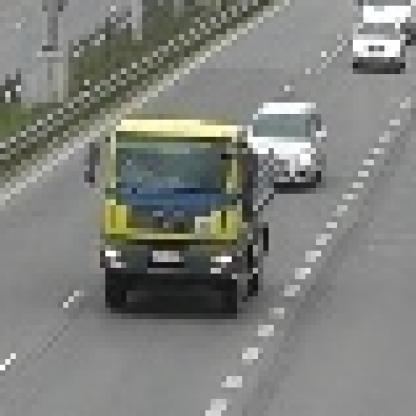truck: (75, 109, 264, 309)
